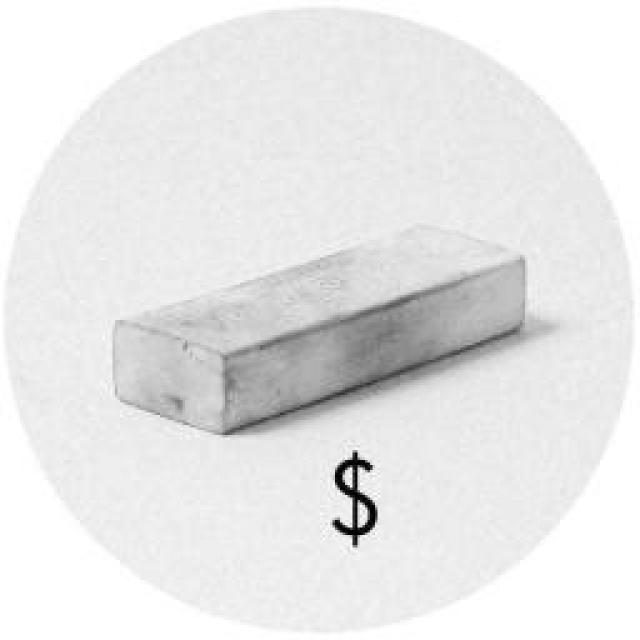Silgi: (112, 227, 524, 429)
